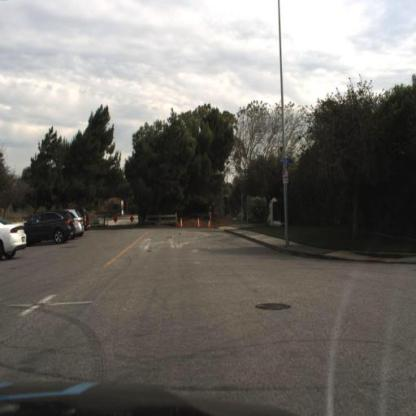car: (27, 209, 76, 246), (1, 215, 29, 264), (70, 206, 86, 238), (70, 209, 86, 238)
